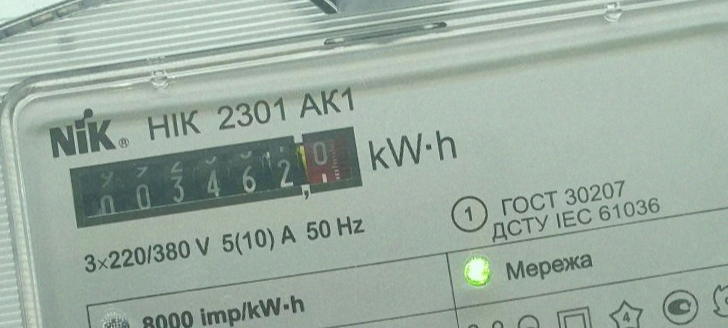0: (131, 179, 153, 211), (309, 138, 330, 168), (94, 191, 116, 216)
2: (273, 155, 295, 189)
3: (165, 172, 188, 206)
4: (202, 166, 223, 200)
6: (235, 160, 260, 197)
9: (94, 168, 116, 190)
screen: (53, 112, 375, 248)
